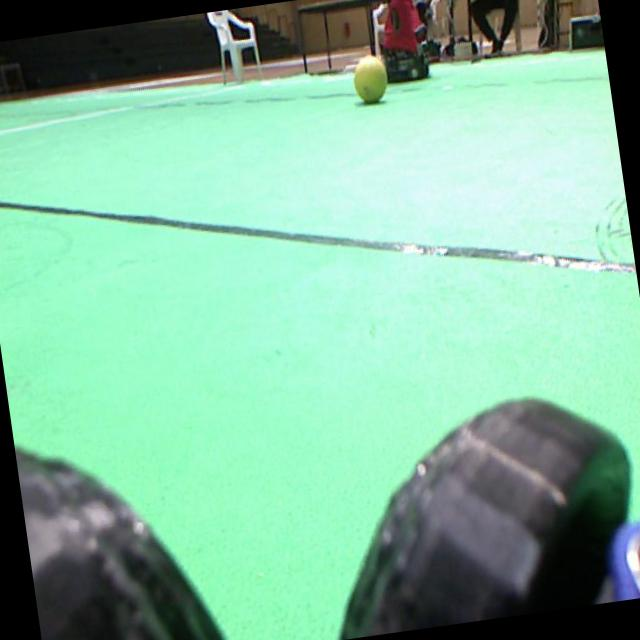ball: (354, 56, 386, 102)
